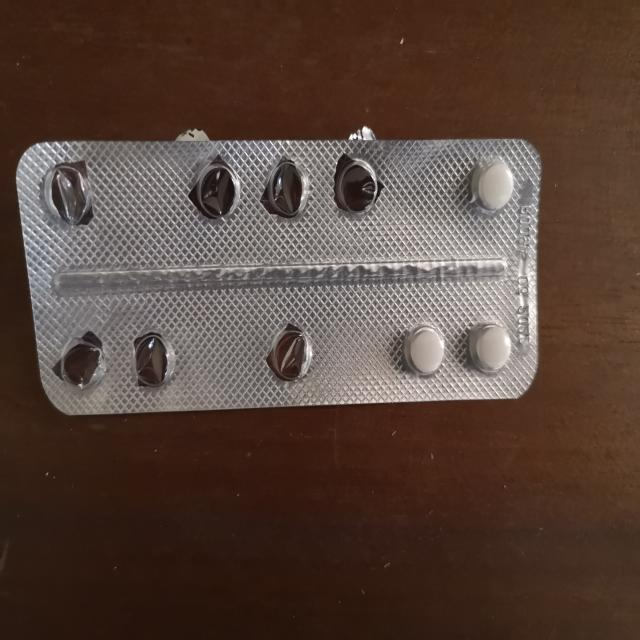Empty: (256, 149, 315, 225), (122, 324, 184, 396), (182, 154, 241, 228), (35, 157, 96, 228), (326, 152, 387, 222), (260, 314, 316, 390), (51, 332, 109, 399)
Pill: (468, 154, 527, 221), (463, 317, 518, 382), (398, 319, 452, 384)
